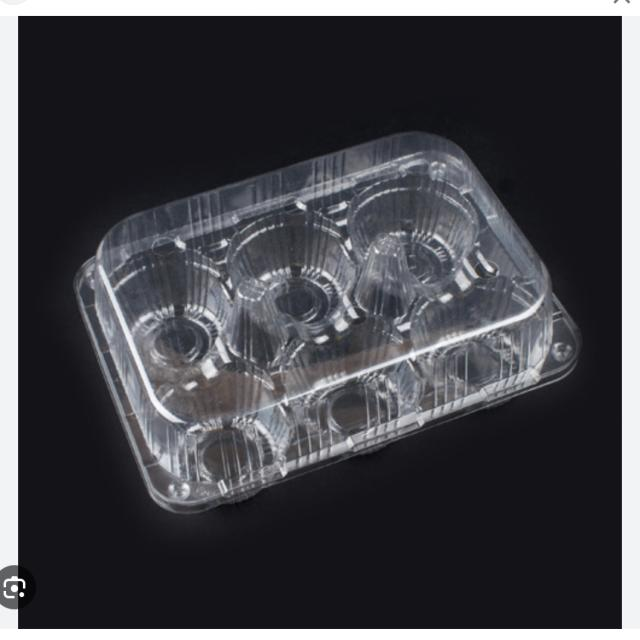recyclable: (60, 113, 596, 531)
